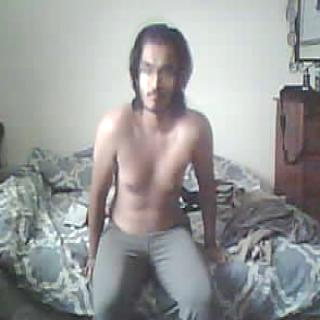Gray Sweatpants: (88, 216, 213, 320)
